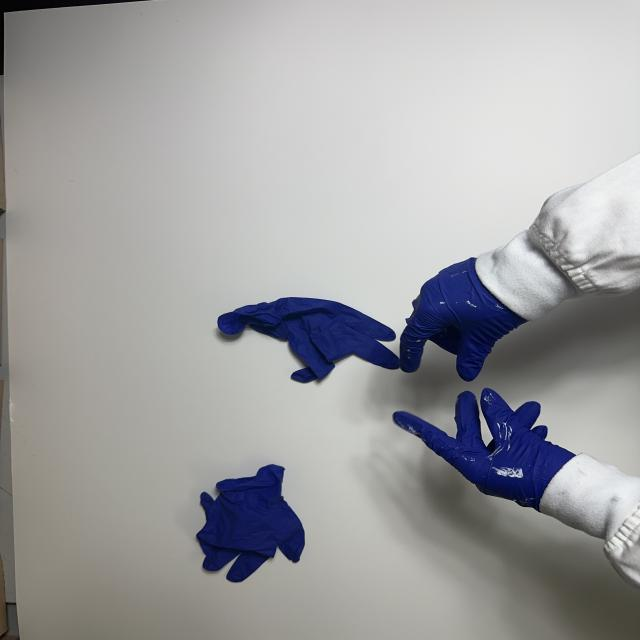gloves_contaminated: (393, 388, 574, 511), (400, 258, 526, 380)
